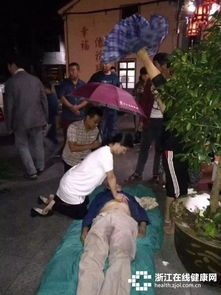falling: (26, 174, 168, 295)
